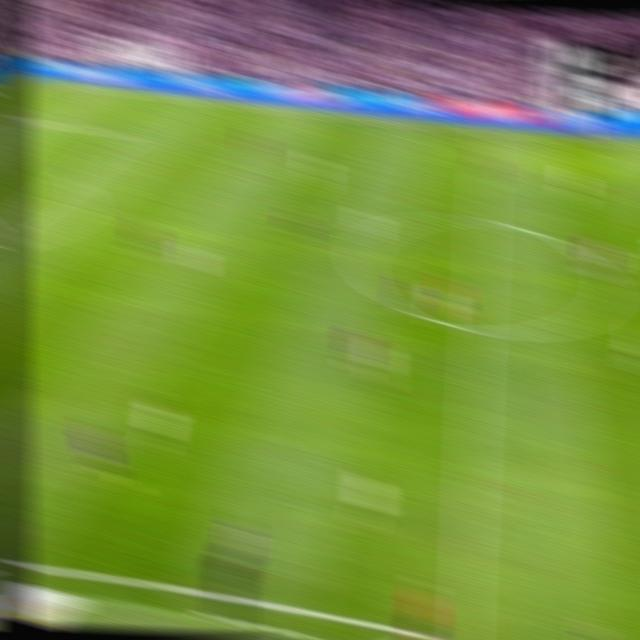bigarea_top_inner: (116, 125, 139, 144)
corner: (25, 72, 49, 88)
halfcircle_bottom: (463, 313, 492, 346)
halfcircle_top: (469, 206, 497, 234)
midline_bottom_intersection: (446, 621, 481, 640)
midline_top_intersection: (475, 122, 498, 140)
top_arc_area_intersection: (60, 168, 83, 186)
